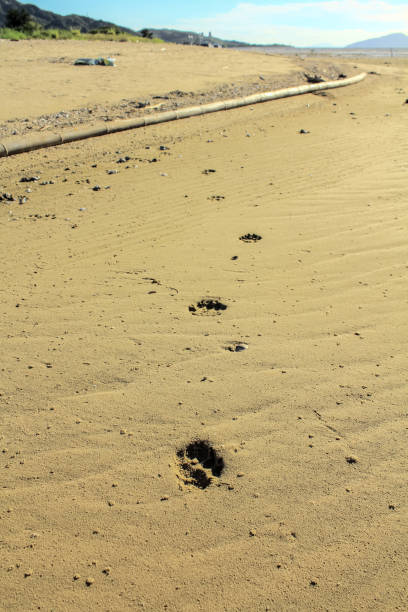animal_footprint: (176, 440, 224, 488), (189, 298, 226, 314), (239, 233, 261, 242)
